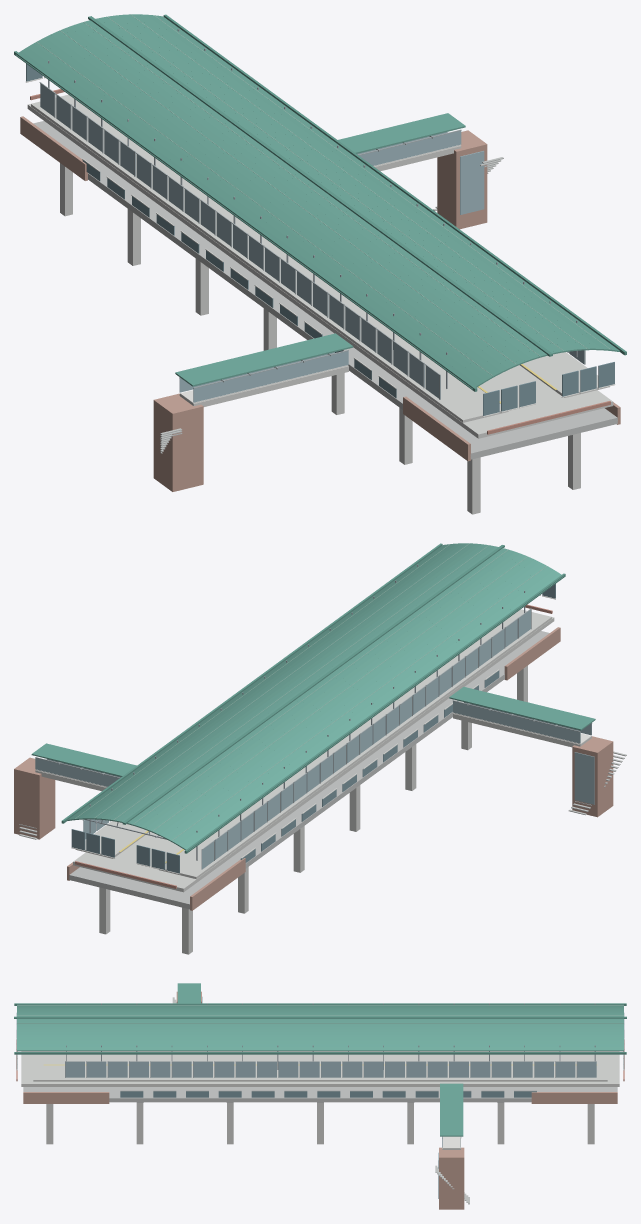
3 renders of one model, top to bottom at view 1: azimuth 30°, elevation 25°; view 2: azimuth 150°, elevation 25°; view 3: azimuth 270°, elevation 25°, orthographic. The views are drawn at different scales.
Parts seen in each view (by area): view 1: MRT6 station 15 concept geometry; view 2: MRT6 station 15 concept geometry; view 3: MRT6 station 15 concept geometry.
Boxes of the visible parts, bbox=[...] form: MRT6 station 15 concept geometry: bbox=[14, 14, 626, 514]; MRT6 station 15 concept geometry: bbox=[14, 543, 626, 954]; MRT6 station 15 concept geometry: bbox=[14, 983, 626, 1209].
Bounding box in the file's own units: 101 × 29.49 × 150.
